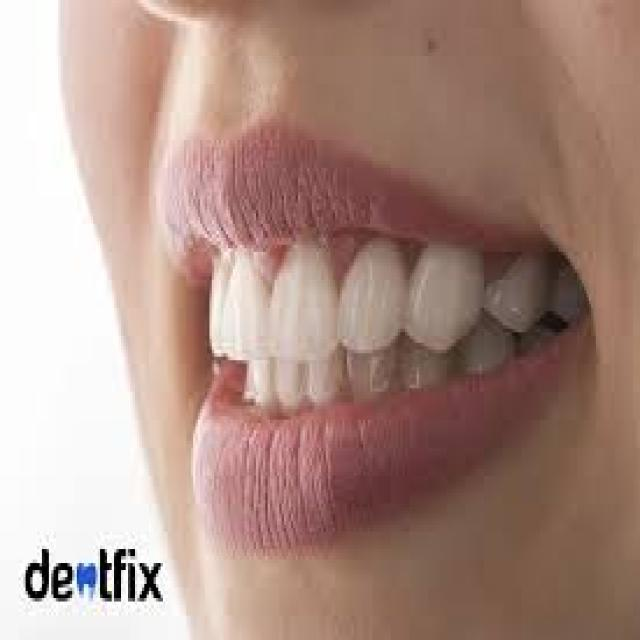tooth: (277, 262, 335, 354), (349, 252, 403, 343), (414, 259, 480, 329), (233, 266, 270, 371), (498, 259, 547, 329), (354, 353, 398, 395), (210, 259, 223, 367), (461, 343, 505, 367), (277, 367, 307, 402), (554, 284, 584, 318), (314, 364, 345, 395), (408, 357, 444, 381), (249, 381, 275, 406)
